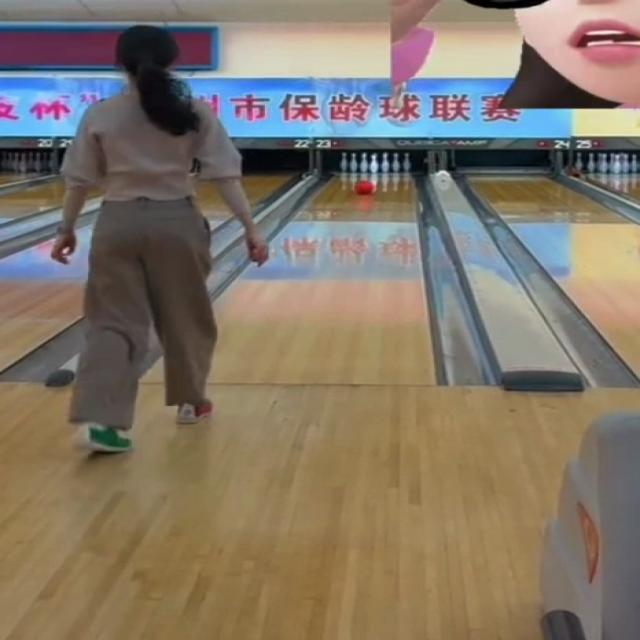alley: (212, 171, 433, 383)
balls: (356, 180, 375, 195)
bottle: (339, 152, 413, 176)
